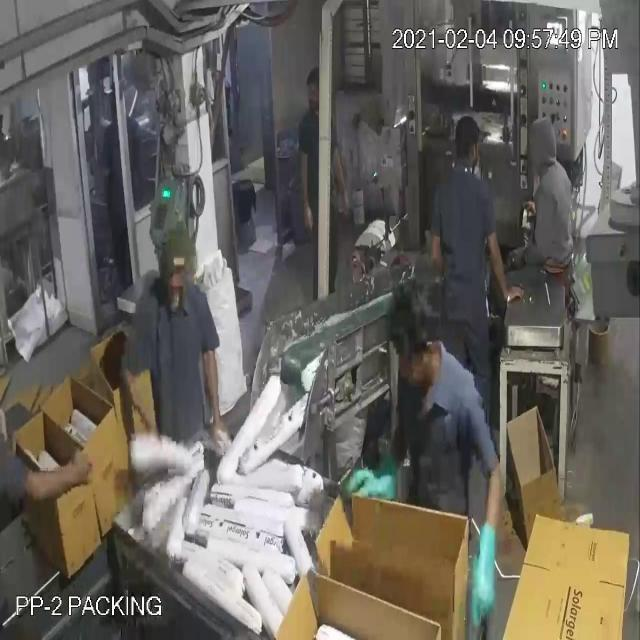No_Gloves: (20, 58, 506, 540)
